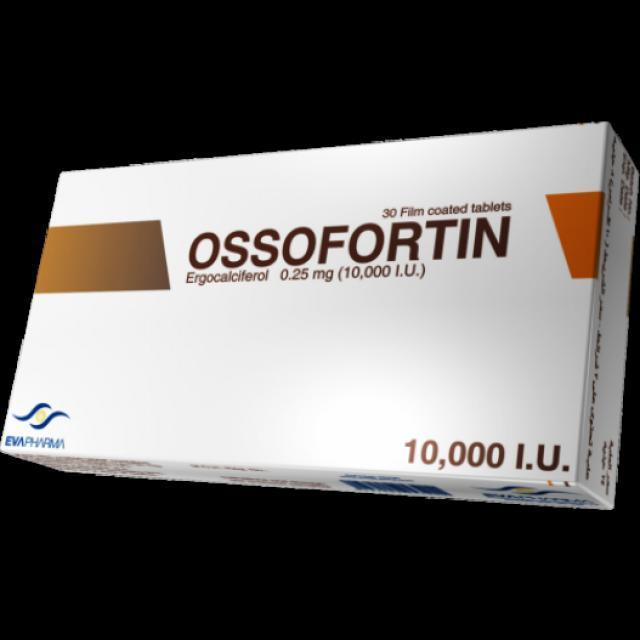drug-name: (187, 214, 514, 268)
